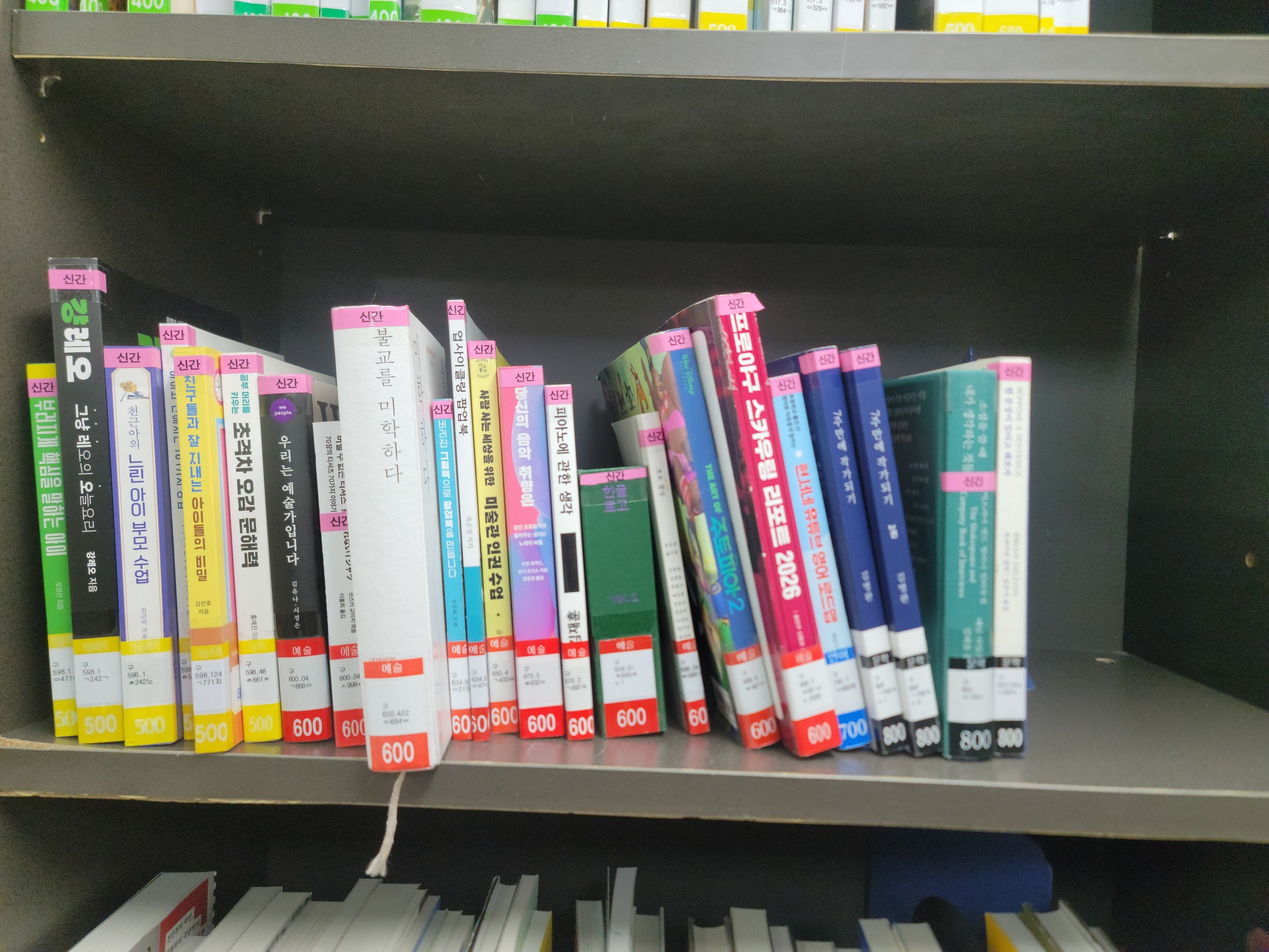book-spine: (717, 295, 841, 759), (663, 329, 783, 751), (330, 305, 437, 774), (766, 372, 875, 753), (810, 347, 911, 757), (848, 344, 944, 759), (48, 259, 124, 744), (103, 347, 176, 747), (257, 375, 331, 744), (497, 366, 565, 747), (577, 465, 667, 749), (217, 355, 282, 744), (640, 413, 713, 750), (175, 347, 230, 751), (468, 338, 520, 747), (943, 370, 996, 760), (446, 298, 491, 746), (25, 366, 79, 737), (543, 385, 596, 748), (312, 422, 366, 748), (159, 327, 201, 741), (991, 357, 1031, 758), (430, 399, 472, 746)
